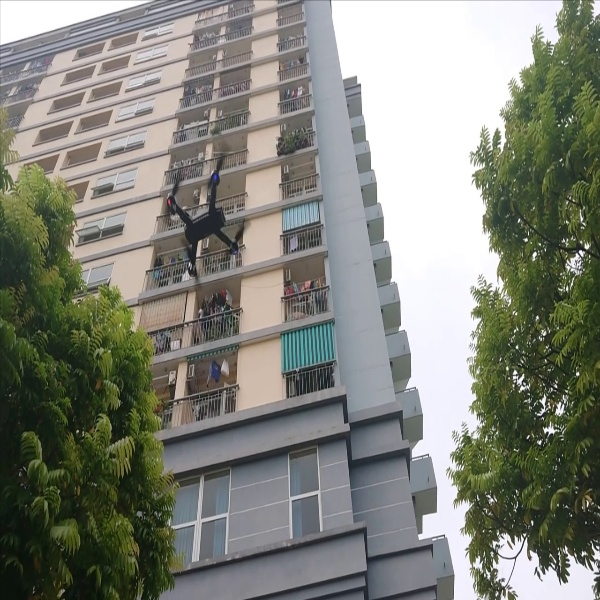drone: (158, 155, 253, 284)
